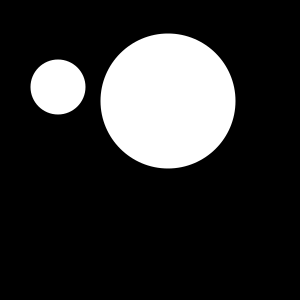rectangle: (101, 34, 236, 168), (30, 59, 85, 114)
triangle: (163, 64, 214, 115)
